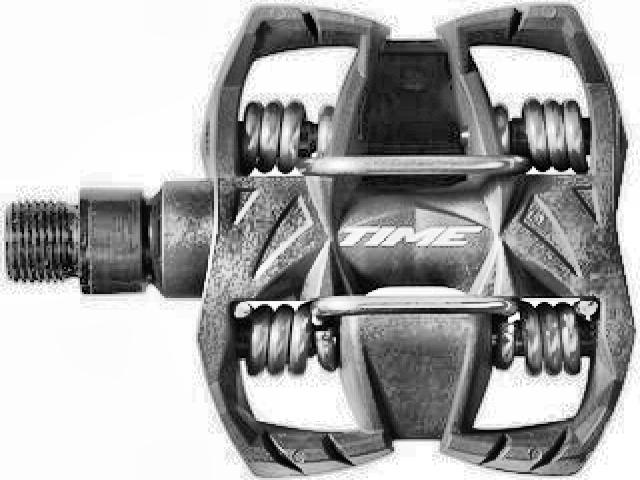pedal: (8, 2, 640, 476)
